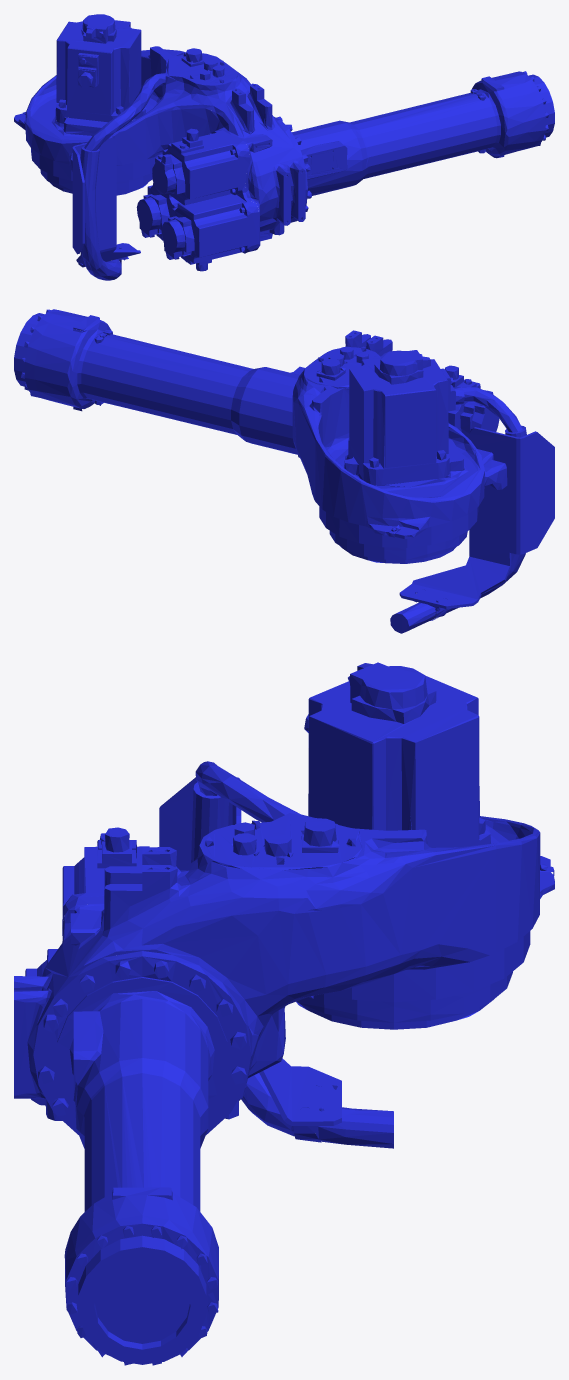
3 views of the same model, one above another, from view 1: azimuth 30°, elevation 25°; view 2: azimuth 150°, elevation 25°; view 3: azimuth 270°, elevation 25° (orthographic). The views are drawn at different scales.
Parts seen in each view (by area): view 1: /Link3/Link3_003-mesh/0; view 2: /Link3/Link3_003-mesh/0; view 3: /Link3/Link3_003-mesh/0.
Part boxes in pixels (x1,y1,x2,y2): /Link3/Link3_003-mesh/0: [14, 14, 554, 280]; /Link3/Link3_003-mesh/0: [14, 309, 554, 633]; /Link3/Link3_003-mesh/0: [14, 662, 554, 1365].
Size of the model in its own units: 1.24 by 0.6183 by 0.6451.
